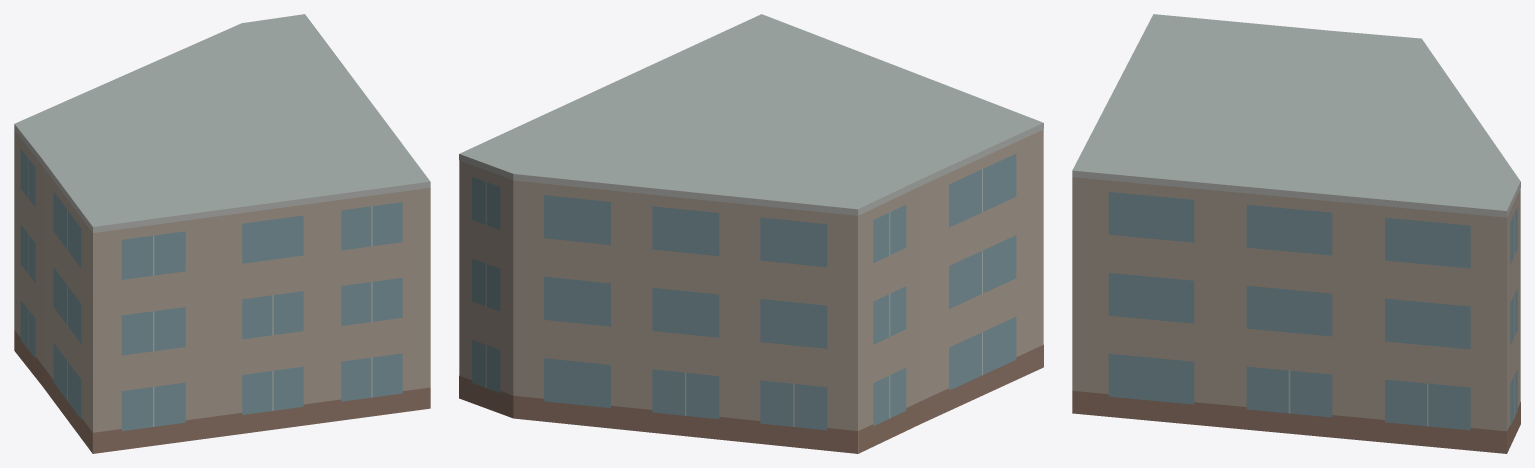
File: survey-upis-32712822.glb
The picture shows the model from 3 angles, left to right: view 1: azimuth 30°, elevation 25°; view 2: azimuth 150°, elevation 25°; view 3: azimuth 270°, elevation 25°; orthographic projection. The views are drawn at different scales.
Visible parts, largest first — view 1: survey-upis-32712822.tmp; view 2: survey-upis-32712822.tmp; view 3: survey-upis-32712822.tmp.
Boxes of the visible parts, <box> form: survey-upis-32712822.tmp: <box>14,14,430,453</box>; survey-upis-32712822.tmp: <box>459,14,1043,453</box>; survey-upis-32712822.tmp: <box>1072,14,1520,453</box>.
Bounding box in the file's own units: 15.85 × 9.1 × 15.25.
